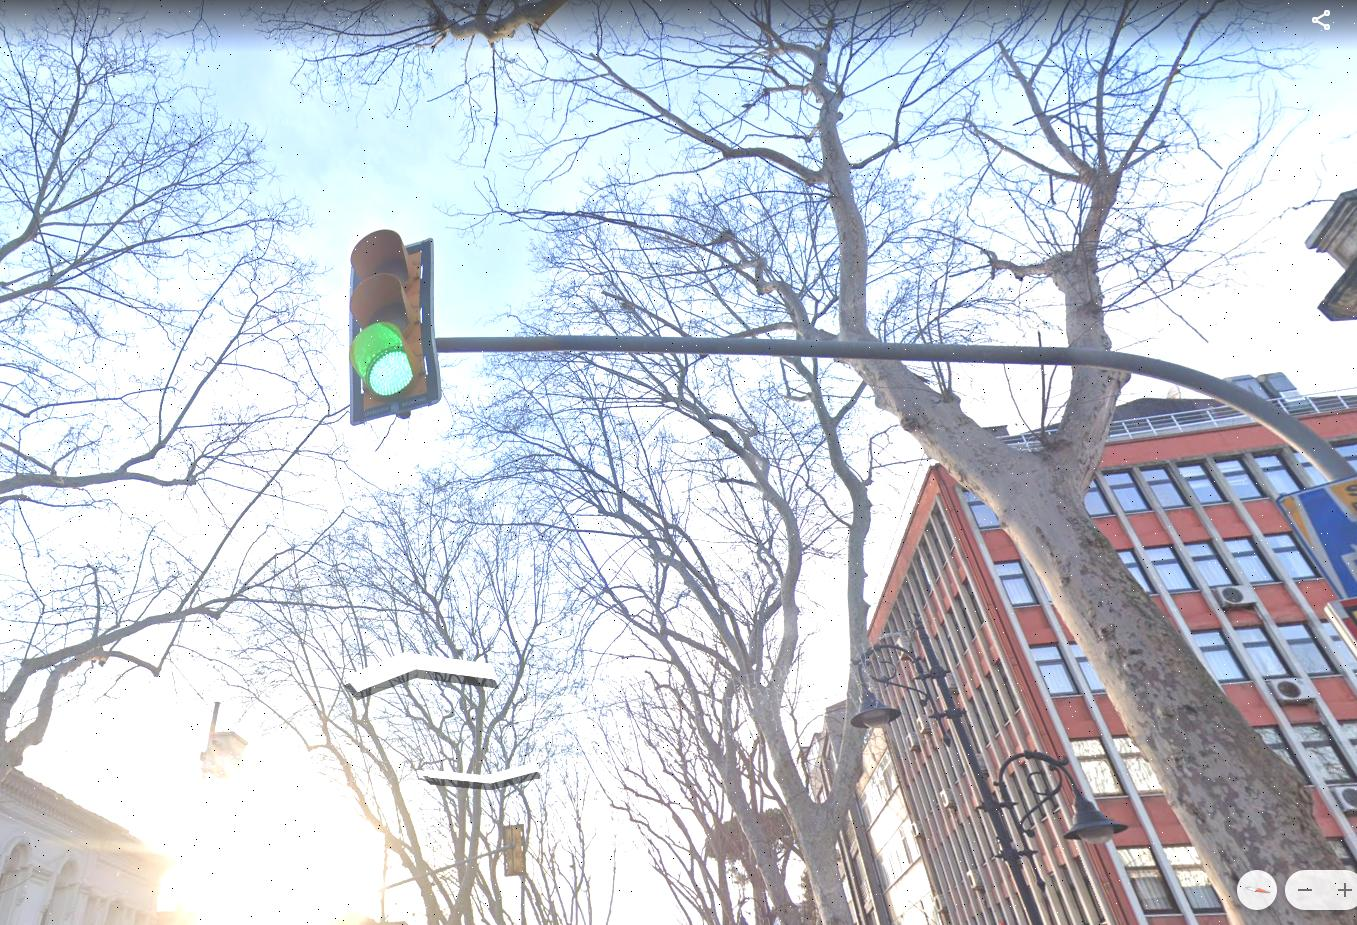greenlight: (345, 237, 426, 397)
